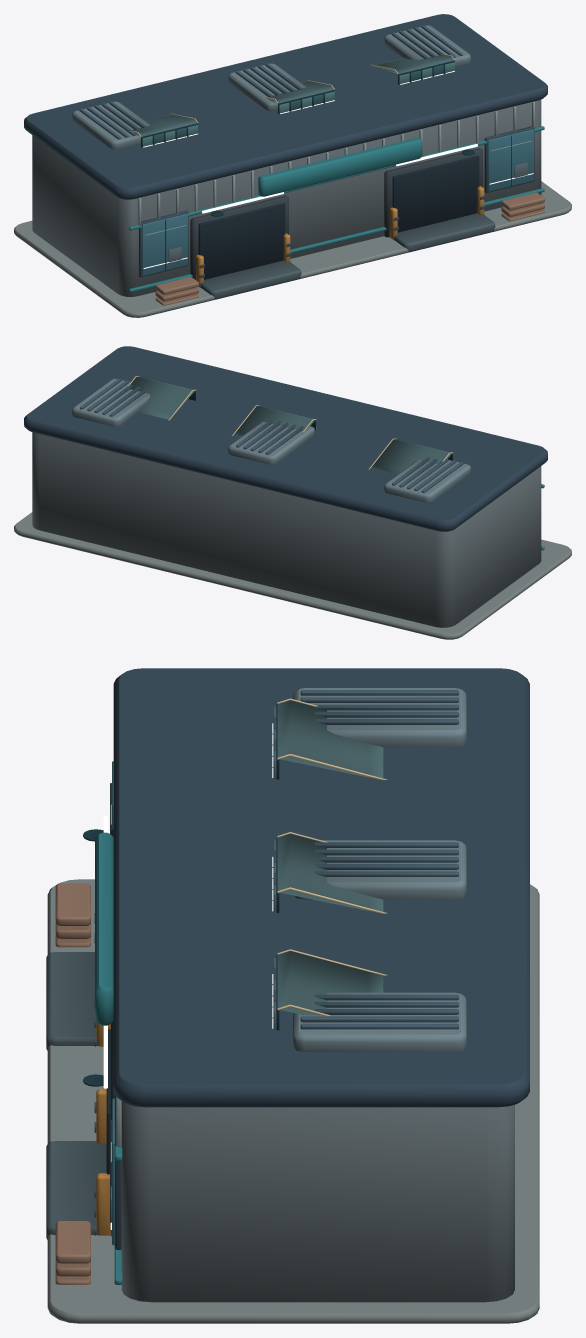
File: metro_warehouse.glb
3 views of the same model, one above another, from view 1: azimuth 30°, elevation 25°; view 2: azimuth 150°, elevation 25°; view 3: azimuth 270°, elevation 25° (orthographic). The views are drawn at different scales.
Visible parts, largest first — view 1: Warehouse; view 2: Warehouse; view 3: Warehouse.
Boxes of the visible parts, left/top/right/bottom form: Warehouse: left=14, top=14, right=571, bottom=317; Warehouse: left=14, top=346, right=571, bottom=639; Warehouse: left=46, top=668, right=539, bottom=1323.
Size of the model in its own units: 21 by 5.75 by 10.03.
